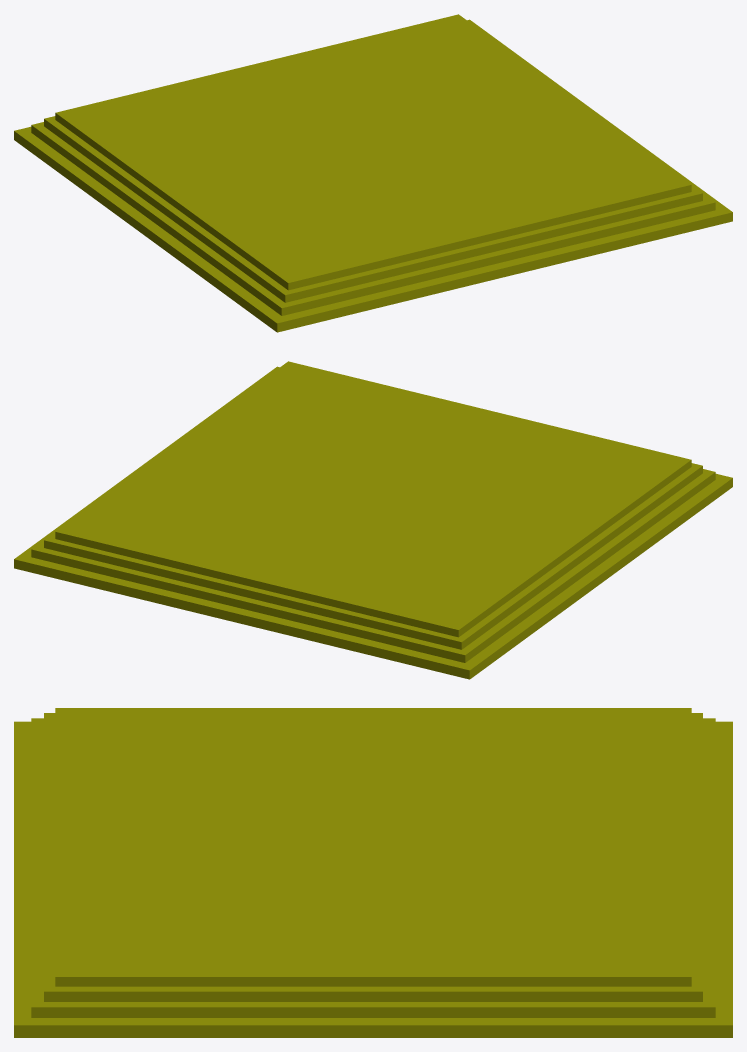
The model's file is Stairs.fbx.
3 renders of one model, top to bottom at view 1: azimuth 30°, elevation 25°; view 2: azimuth 150°, elevation 25°; view 3: azimuth 270°, elevation 25°, orthographic. The views are drawn at different scales.
Parts seen in each view (by area): view 1: Stairs; view 2: Stairs; view 3: Stairs.
Boxes of the visible parts, <box> form: Stairs: <box>14,14,732,332</box>; Stairs: <box>14,361,732,679</box>; Stairs: <box>14,708,732,1037</box>.
Bounding box in the file's own units: 31.31 × 2.1 × 31.31.
